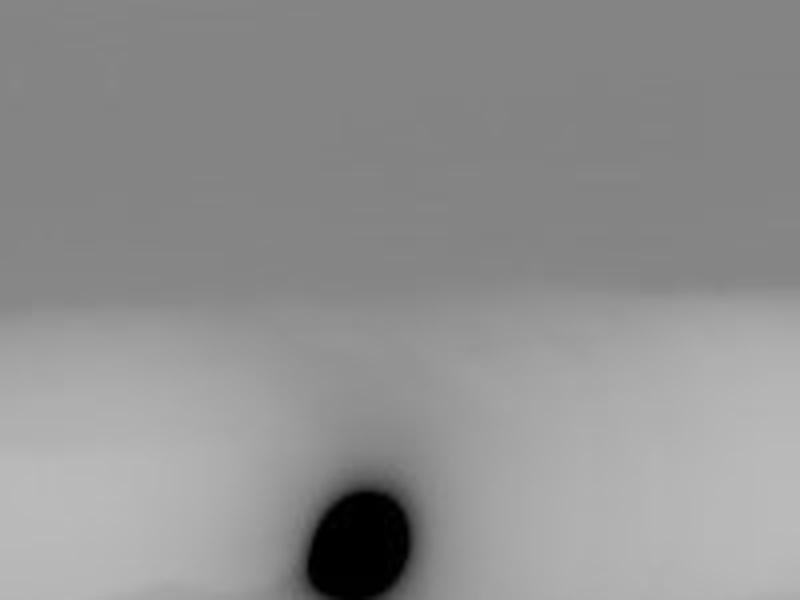defect: (307, 490, 411, 597)
